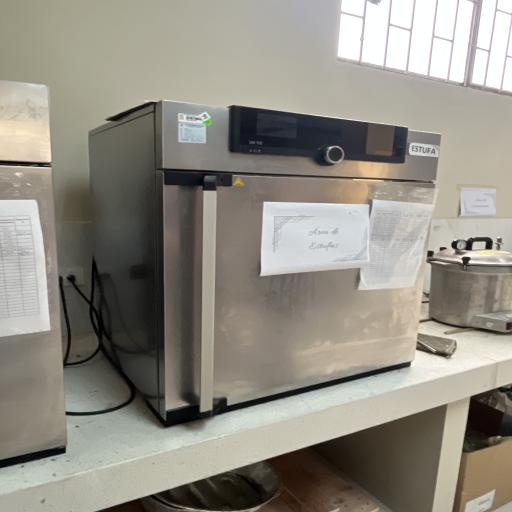Estufa_Memmert: (78, 89, 448, 433)
